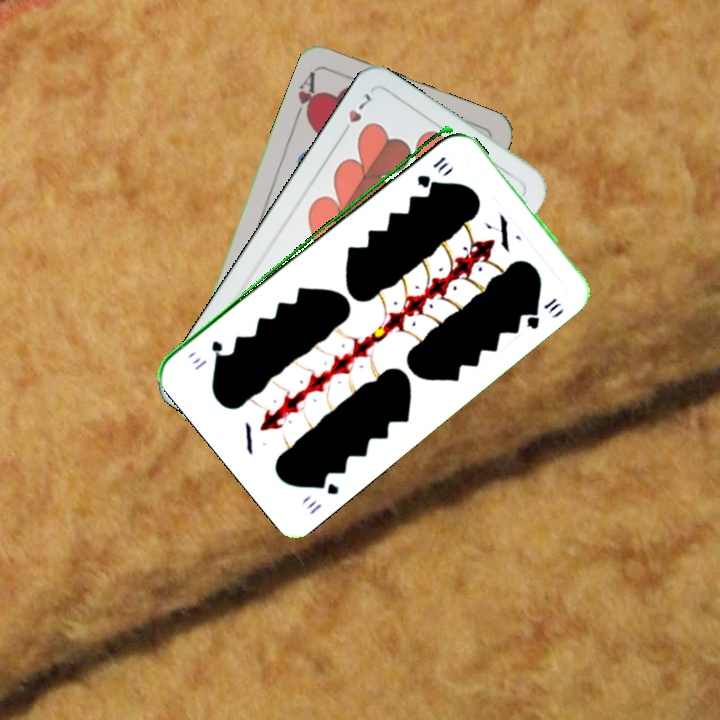G10: (303, 473, 342, 517), (413, 152, 451, 188)
H7: (337, 88, 374, 140)
HA: (290, 67, 322, 124)
